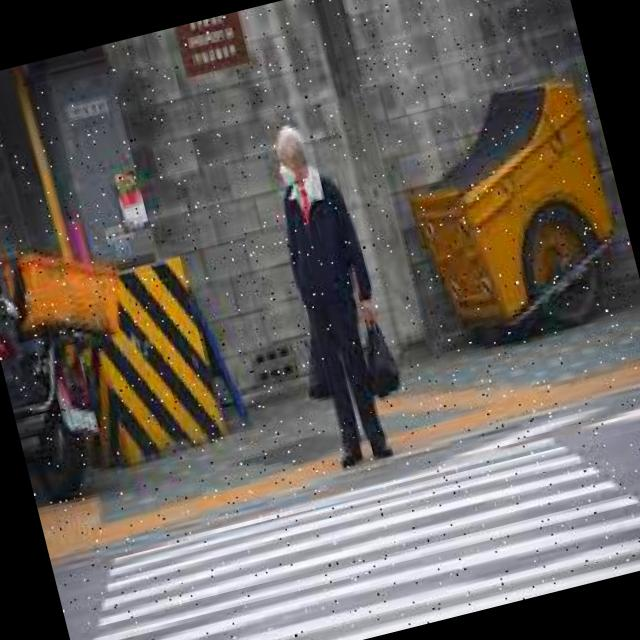Person: (255, 114, 410, 475)
